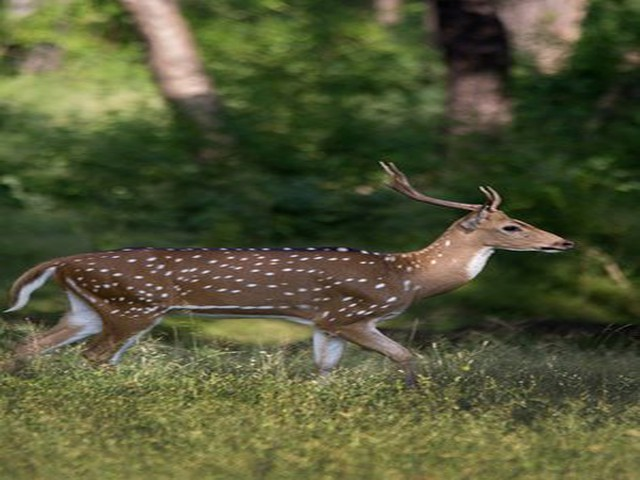deer: (3, 156, 584, 392)
